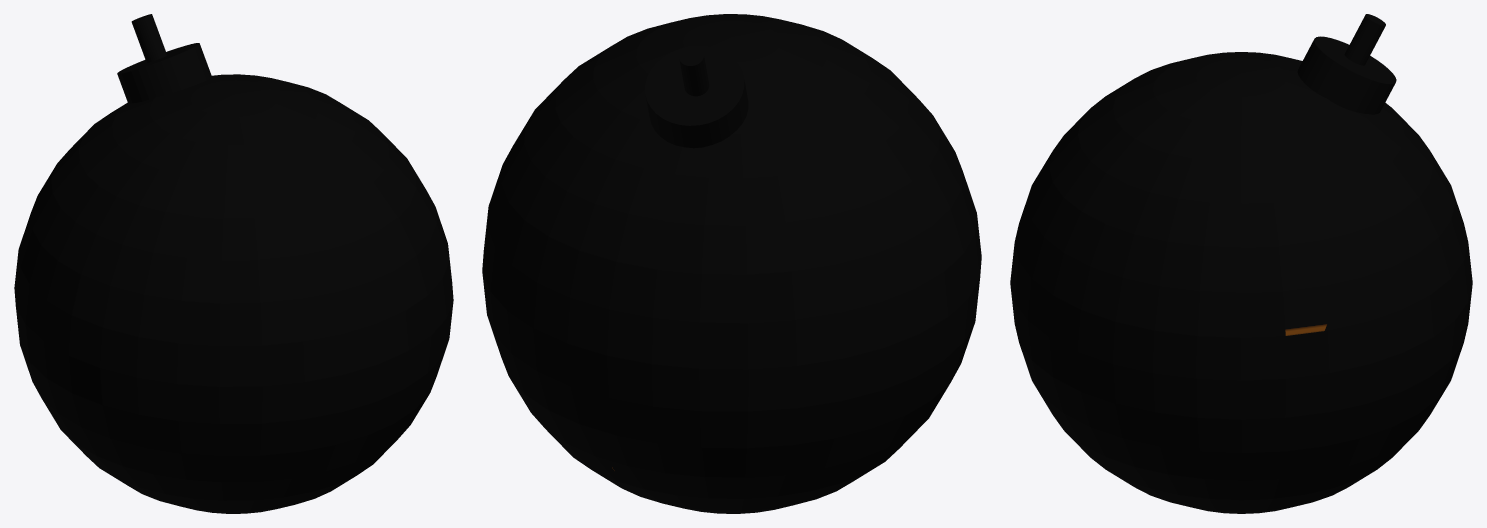
File: bomb.obj
3 renders of one model, left to right at view 1: azimuth 30°, elevation 25°; view 2: azimuth 150°, elevation 25°; view 3: azimuth 270°, elevation 25°, orthographic. The views are drawn at different scales.
Parts seen in each view (by area): view 1: Bomb; view 2: Bomb; view 3: Bomb.
Part boxes in pixels (x1,y1,x2,y2): Bomb: [14, 14, 453, 513]; Bomb: [482, 14, 981, 513]; Bomb: [1010, 14, 1472, 513].
Bounding box in the file's own units: 2 × 2.21 × 2.
